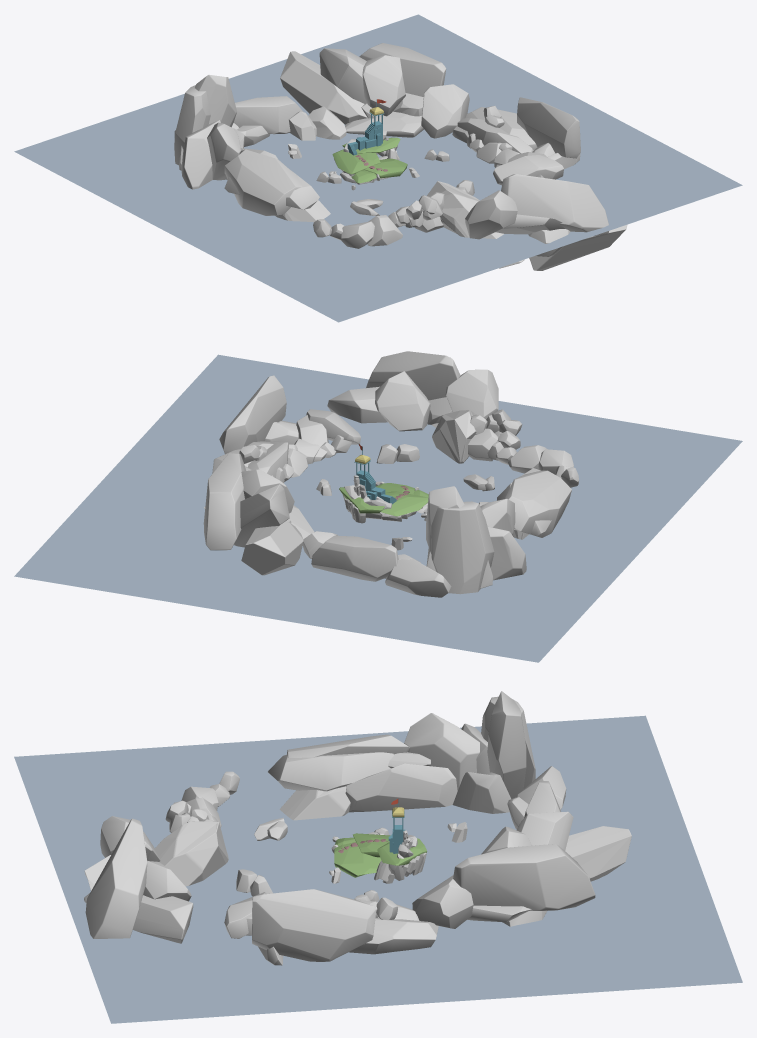
The model's file is Demo 2 Model.fbx.
The picture shows the model from 3 angles, top to bottom: view 1: azimuth 30°, elevation 25°; view 2: azimuth 150°, elevation 25°; view 3: azimuth 270°, elevation 25°; orthographic projection. The views are drawn at different scales.
Parts seen in each view (by area): view 1: Plane.001, Cube.123, Cube.012, Cube.065, Cube.000, Cube.016; view 2: Plane.001, Cube.012, Cube.123, Cube.065, Cube.016, Cube.000; view 3: Plane.001, Cube.123, Cube.012, Cube.065, Cube.000, Cube.016, Cube.048.
Boxes of the visible parts, <box> form: Plane.001: <box>14,14,742,322</box>; Cube.123: <box>280,43,580,185</box>; Cube.012: <box>174,74,346,222</box>; Cube.065: <box>313,174,627,270</box>; Cube.000: <box>332,137,407,183</box>; Cube.016: <box>288,144,474,216</box>; Plane.001: <box>14,354,742,662</box>; Cube.012: <box>302,468,571,597</box>; Cube.123: <box>203,375,360,575</box>; Cube.065: <box>327,351,579,487</box>; Cube.016: <box>316,444,494,550</box>; Cube.000: <box>339,483,428,516</box>; Plane.001: <box>14,715,742,1023</box>; Cube.123: <box>224,811,631,965</box>; Cube.012: <box>268,691,566,829</box>; Cube.065: <box>84,771,239,943</box>; Cube.000: <box>334,833,427,877</box>; Cube.016: <box>236,817,467,901</box>; Cube.048: <box>374,852,426,883</box>.
Size of the model in its own units: 37060 by 10040 by 37060.
